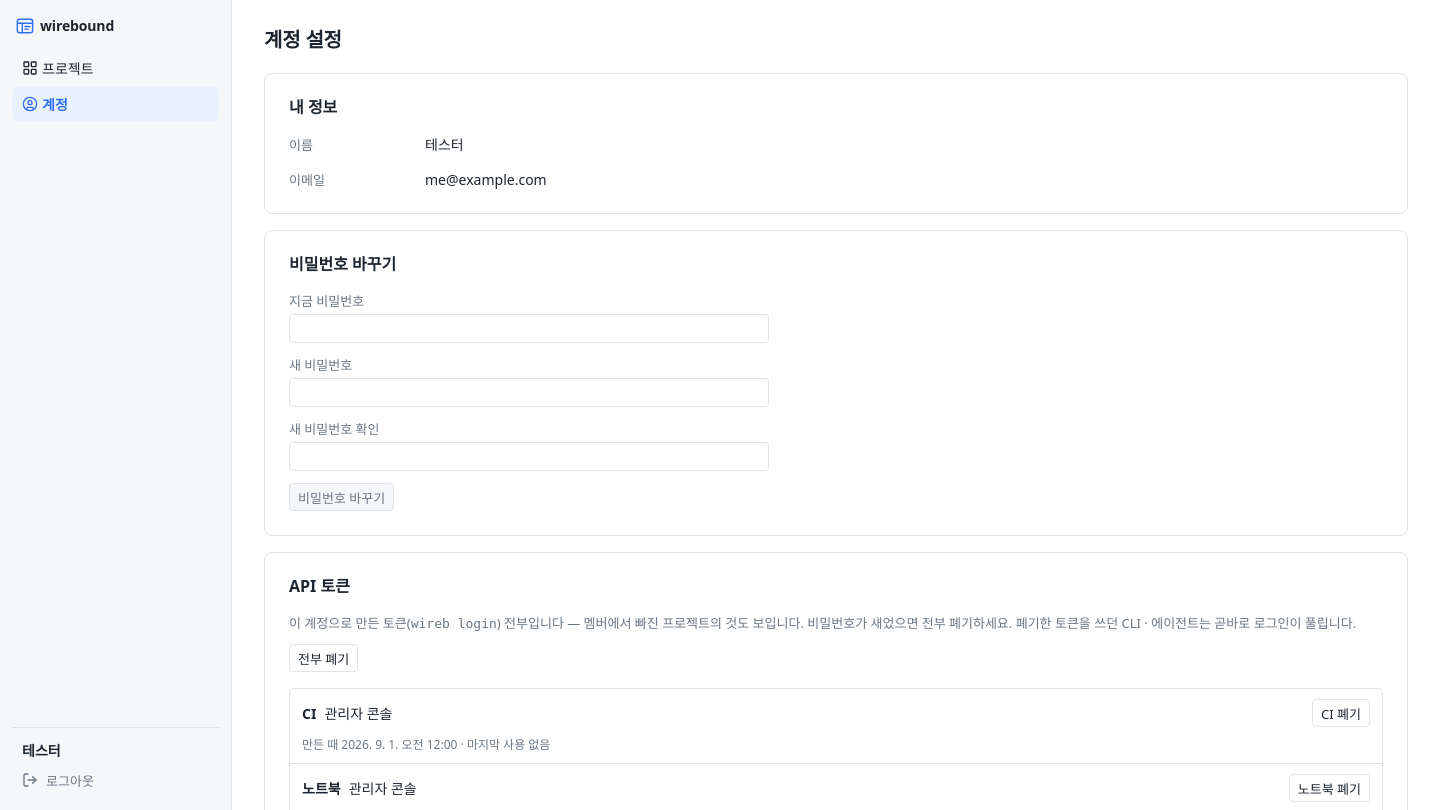
Test: API 토큰 절 › 전부 폐기의 확정은 수를 말하지 않는다 — 누른 순간의 전부를 지우고 알림이 서버가 거둔 수를 말한다
Step 1. Click the button "전부 폐기" → (324, 658), box [289,644,358,672]
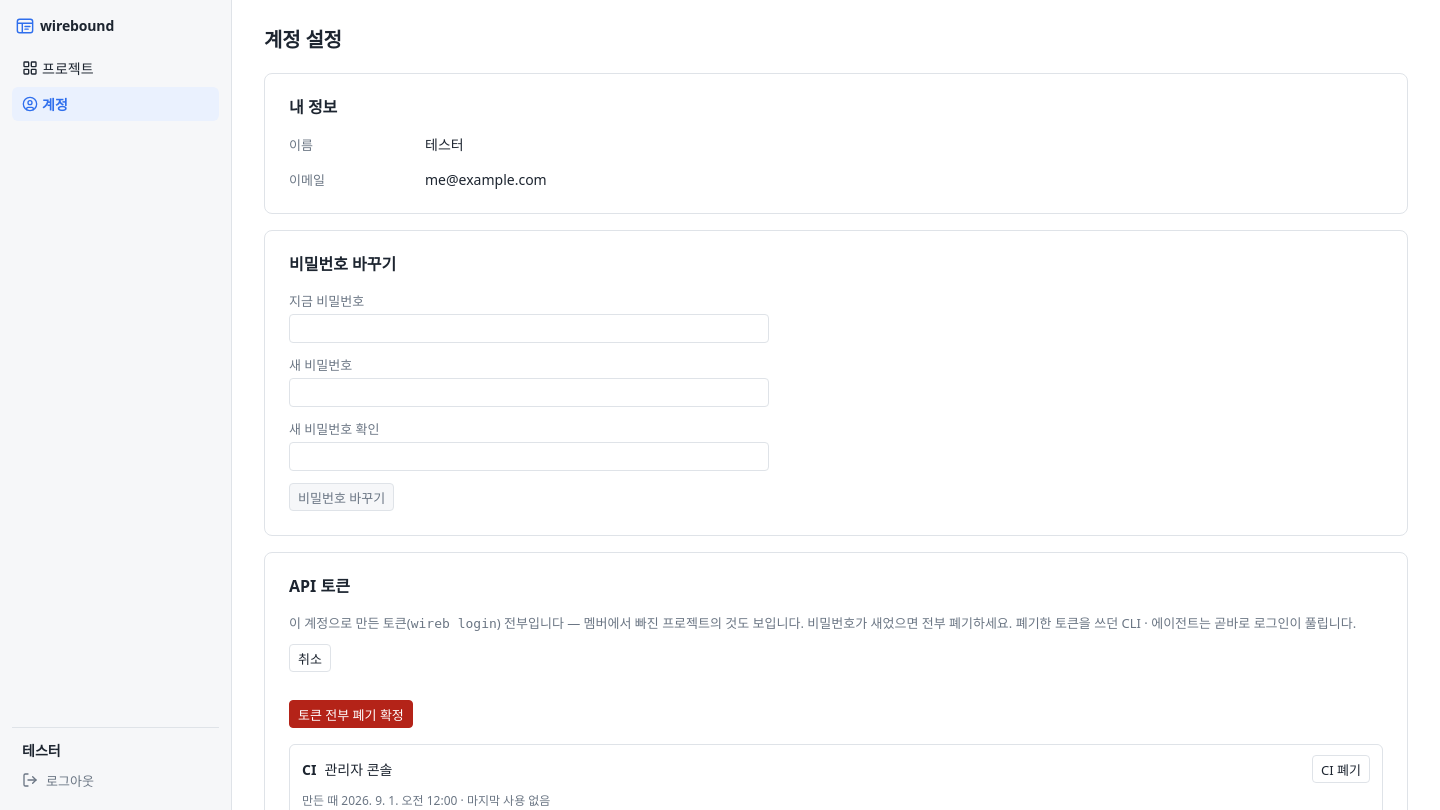
Step 2. Click the button "토큰 전부 폐기 확정" → (351, 714), box [289,700,413,728]
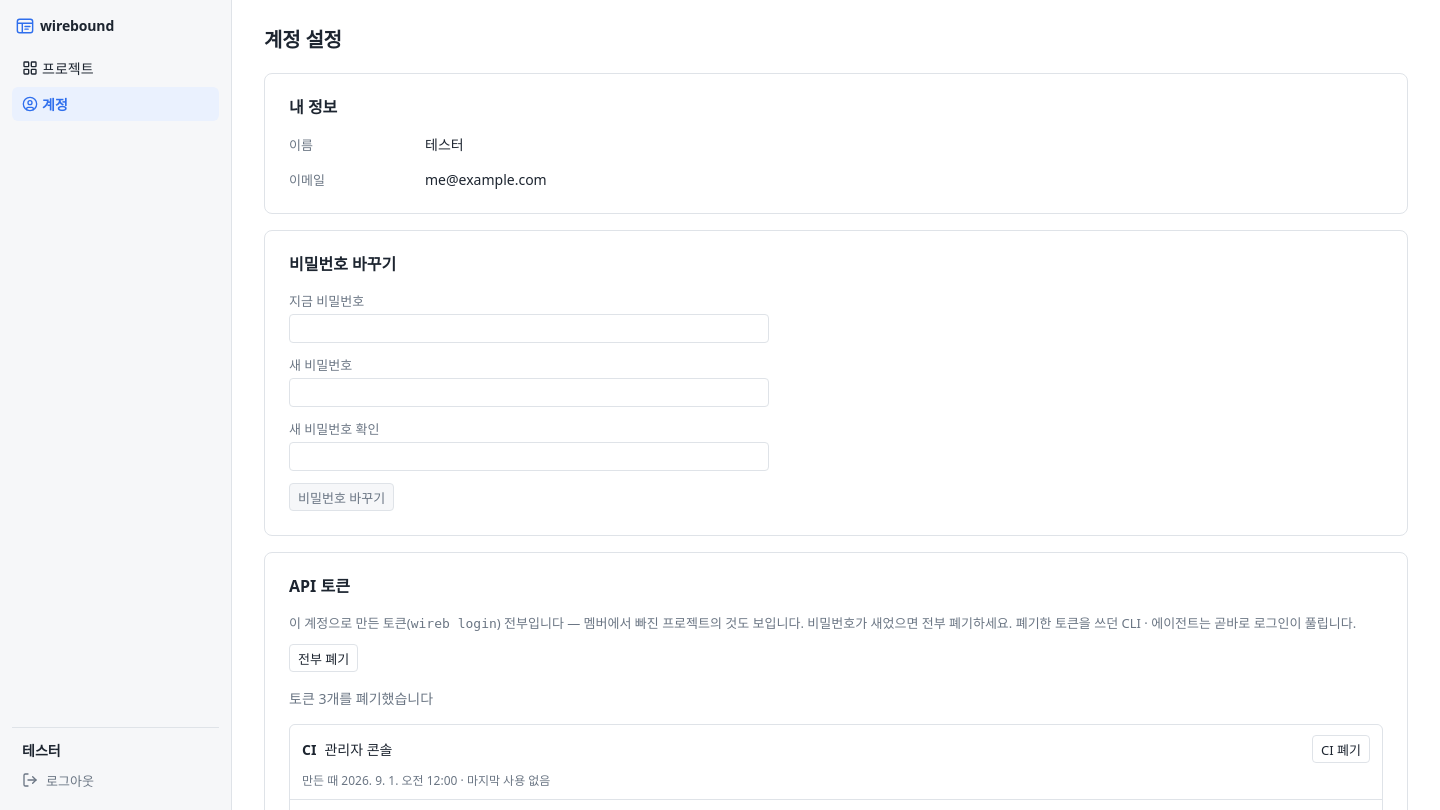
Check: the text "토큰 3개를 폐기했습니다" is shown, box [289,689,433,708]
